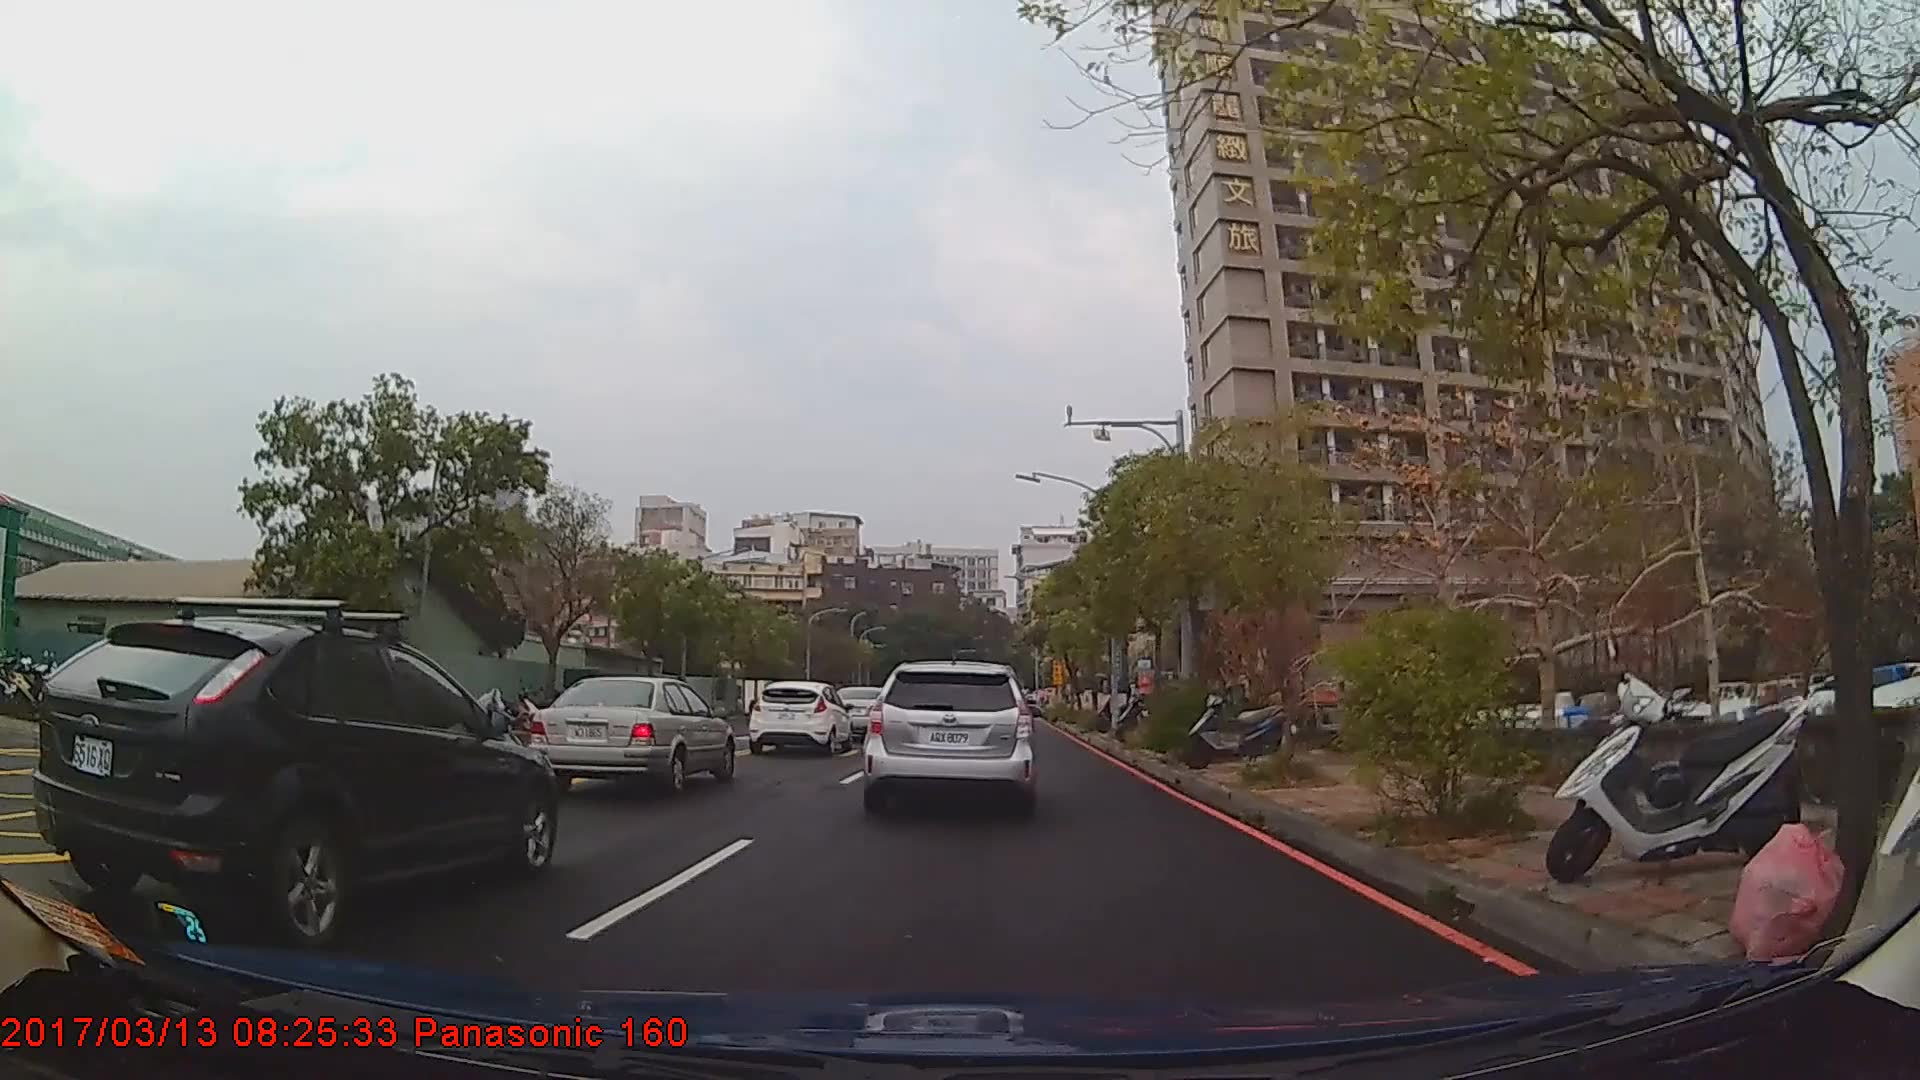vehicle: (32, 617, 556, 945), (861, 658, 1038, 814), (527, 673, 735, 793), (745, 680, 851, 756)
